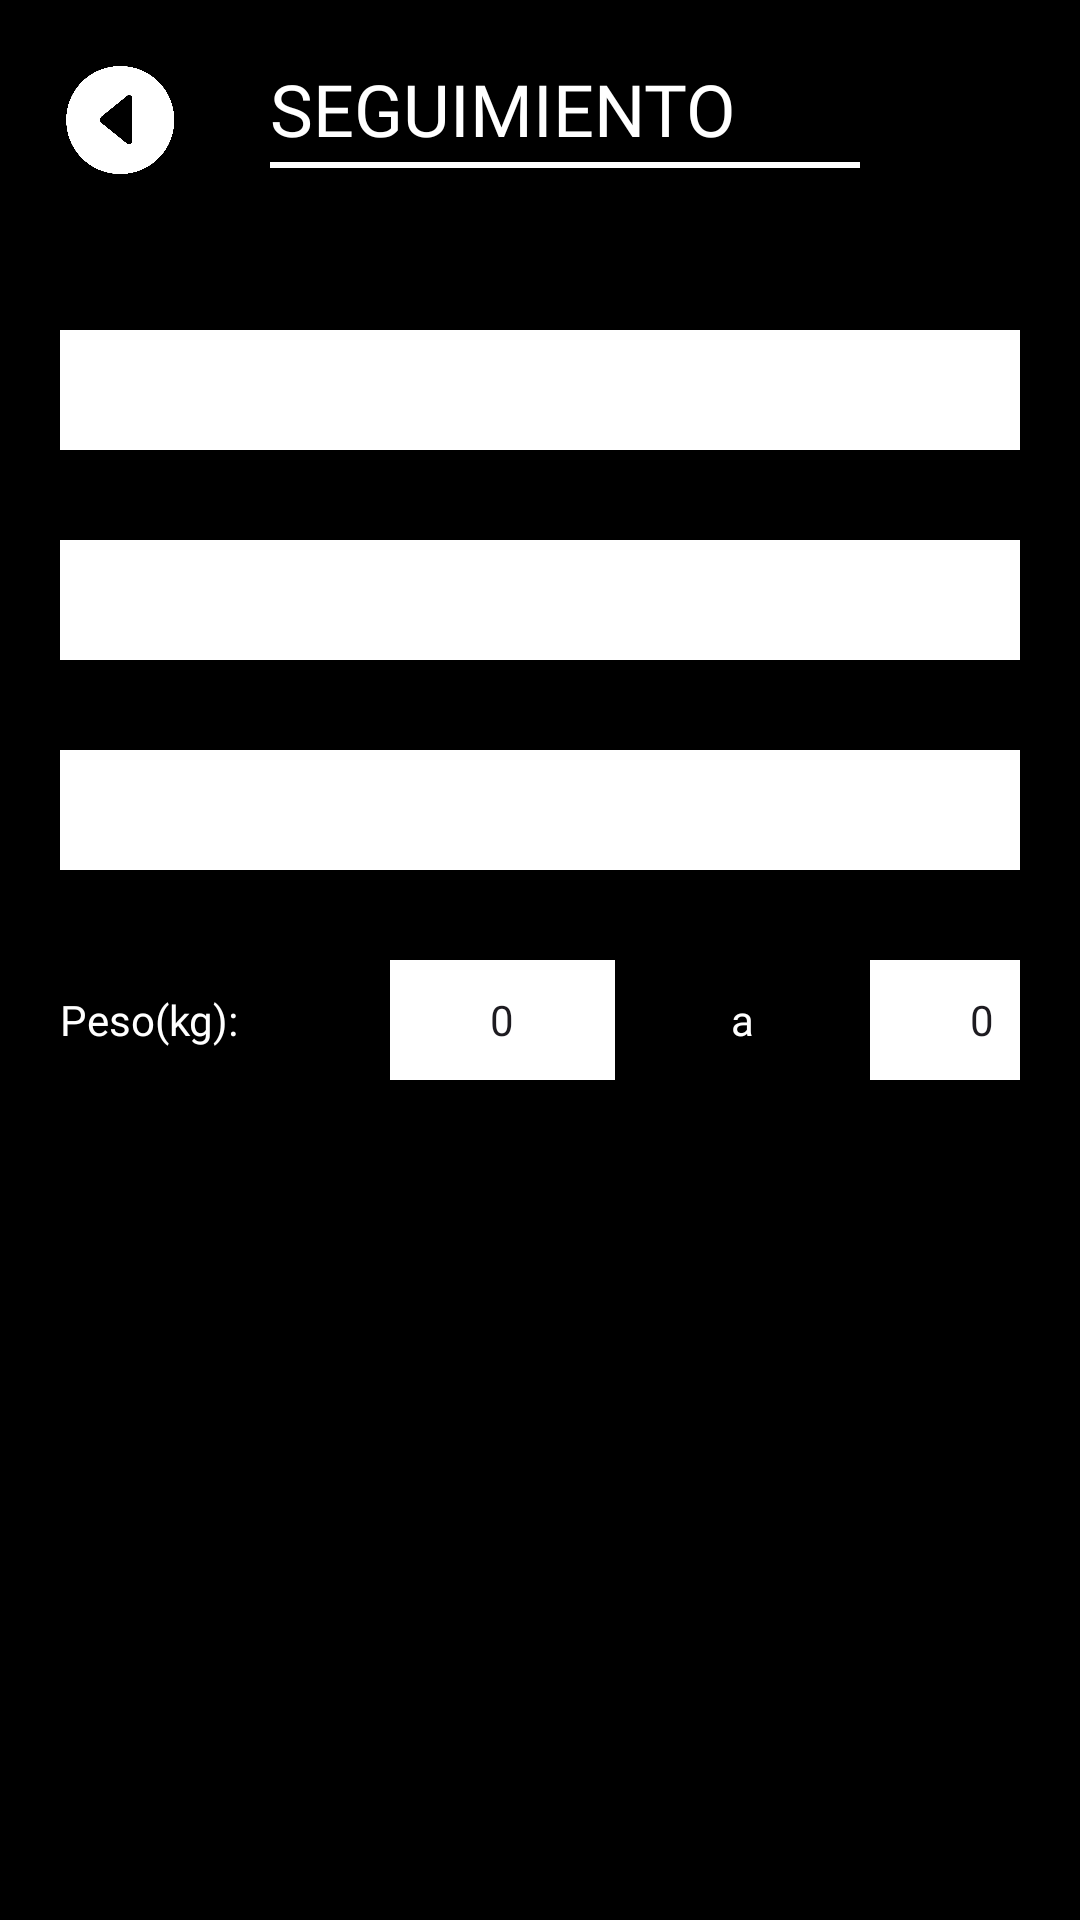

Icon bounding boxes for this 1080x1920 phone screenshot, format (x1, y1, x2, y2):
Boton atras: (66, 66, 174, 174)
